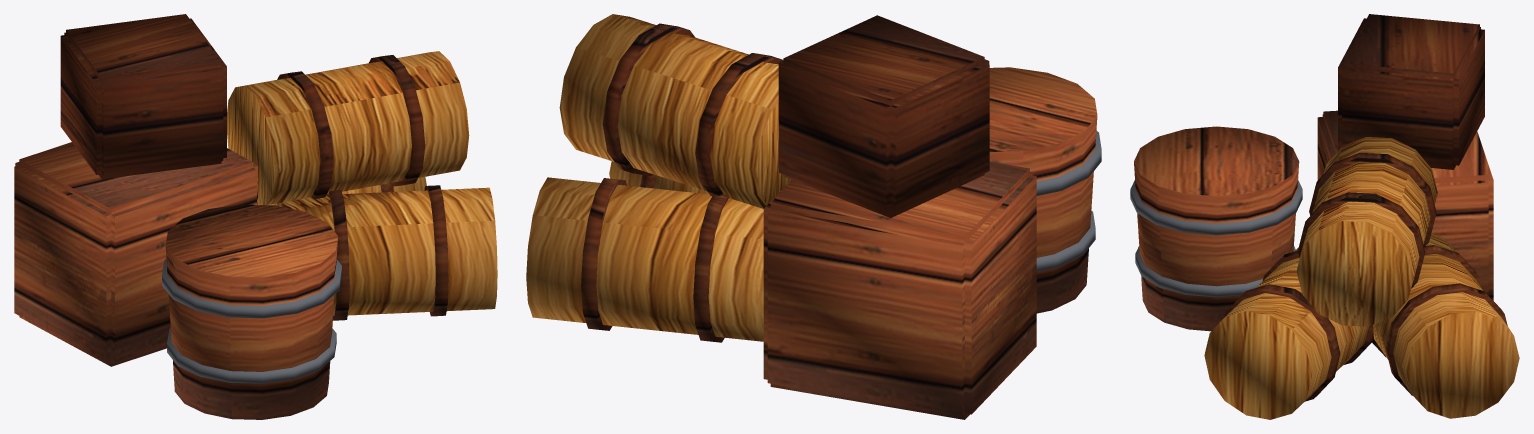
Rendered from edo_street_clutter.glb.
3 views of the same model, side by side, from view 1: azimuth 30°, elevation 25°; view 2: azimuth 150°, elevation 25°; view 3: azimuth 270°, elevation 25° (orthographic). The views are drawn at different scales.
Parts seen in each view (by area): view 1: clutter_cedar, clutter_straw, clutter_charred, clutter_iron; view 2: clutter_cedar, clutter_straw, clutter_charred, clutter_iron; view 3: clutter_straw, clutter_cedar, clutter_charred, clutter_iron.
Boxes of the visible parts, x1,y1,x2,y2 form: clutter_cedar: [14, 142, 337, 419]; clutter_straw: [227, 51, 497, 315]; clutter_charred: [60, 14, 448, 320]; clutter_iron: [162, 259, 341, 383]; clutter_cedar: [763, 67, 1097, 419]; clutter_straw: [526, 14, 791, 341]; clutter_charred: [581, 15, 989, 342]; clutter_iron: [1036, 130, 1101, 271]; clutter_straw: [1204, 137, 1519, 419]; clutter_cedar: [1134, 110, 1493, 331]; clutter_charred: [1224, 14, 1507, 401]; clutter_iron: [1130, 180, 1302, 297].
Size of the model in its own units: 1.45 by 0.95 by 1.32.
Materials: 4 (3 with a texture image).
